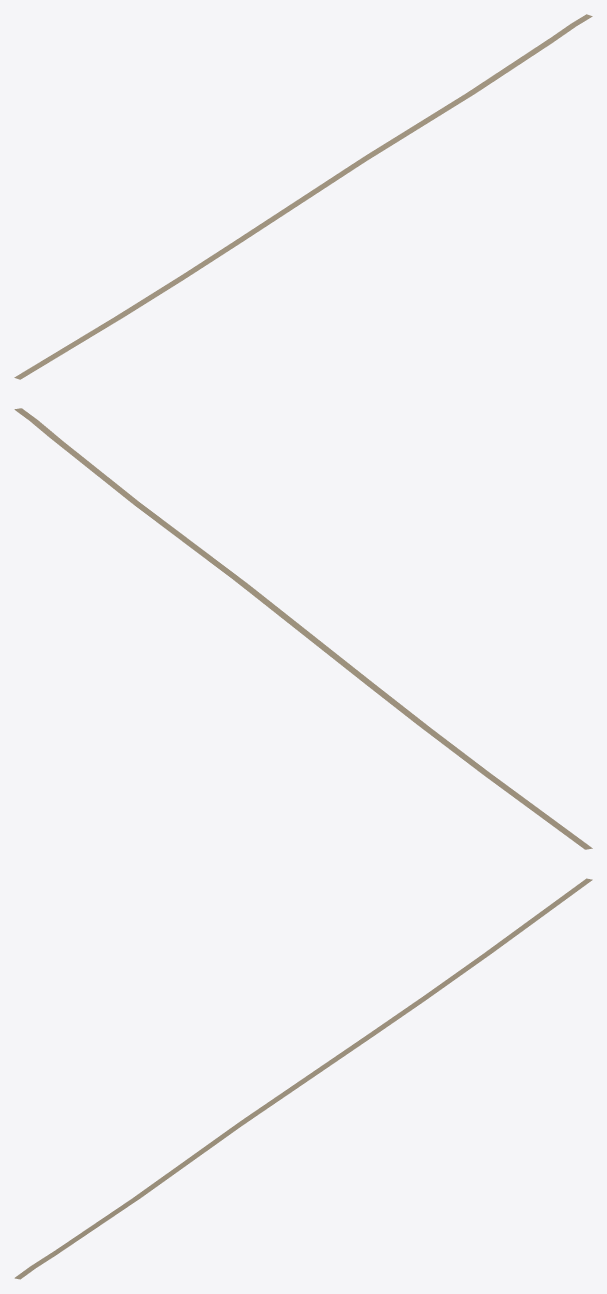
The model's file is farm_11_5_track.glb.
3 views of the same model, one above another, from view 1: azimuth 90°, elevation 25°; view 2: azimuth 150°, elevation 25°; view 3: azimuth 270°, elevation 25° (orthographic). The views are drawn at different scales.
Visible parts, largest first — view 1: geometry_0; view 2: geometry_0; view 3: geometry_0.
Boxes of the visible parts, x1,y1,x2,y2 form: geometry_0: (14,14,592,379); geometry_0: (14,408,592,849); geometry_0: (14,878,592,1279).
Size of the model in its own units: 393 by 8.86 by 251.
